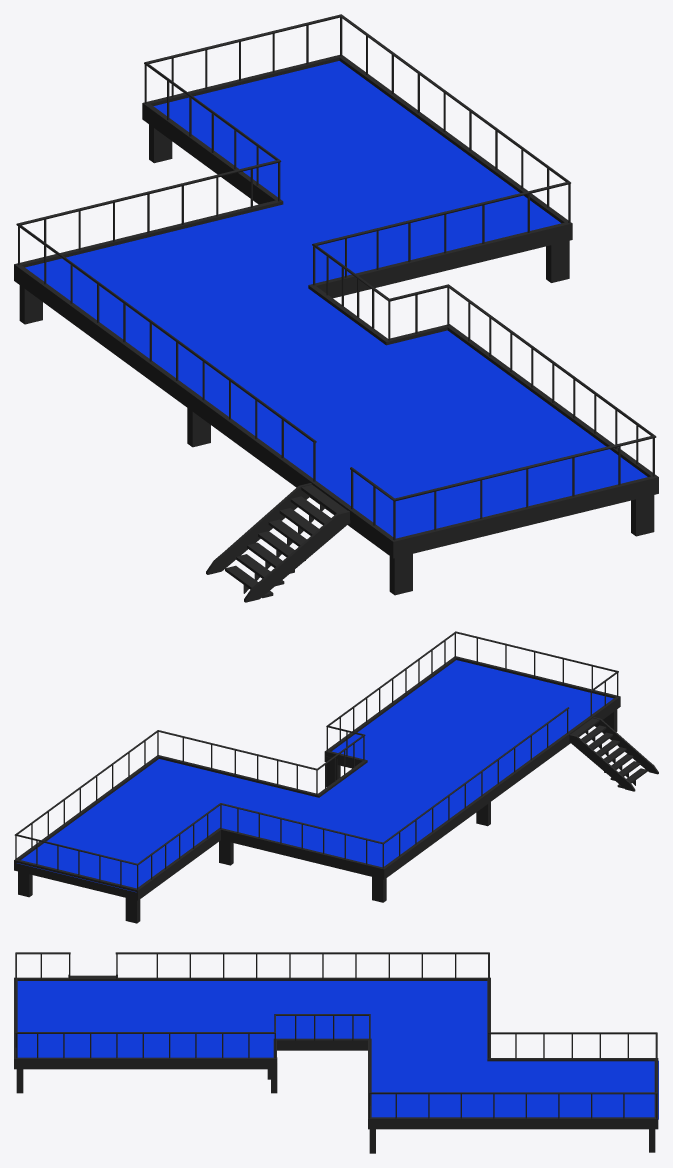
The model's file is Platform_1_V4_fixed.FBX.
The picture shows the model from 3 angles, top to bottom: view 1: azimuth 30°, elevation 25°; view 2: azimuth 150°, elevation 25°; view 3: azimuth 270°, elevation 25°; orthographic projection. The views are drawn at different scales.
Visible parts, largest first — view 1: plattform_1; view 2: plattform_1; view 3: plattform_1.
Part boxes in pixels (x1=…): plattform_1: x1=14, y1=14, x2=658, y2=602; plattform_1: x1=14, y1=631, x2=658, y2=923; plattform_1: x1=14, y1=952, x2=658, y2=1153.
Size of the model in its own units: 490 by 97.84 by 770.
